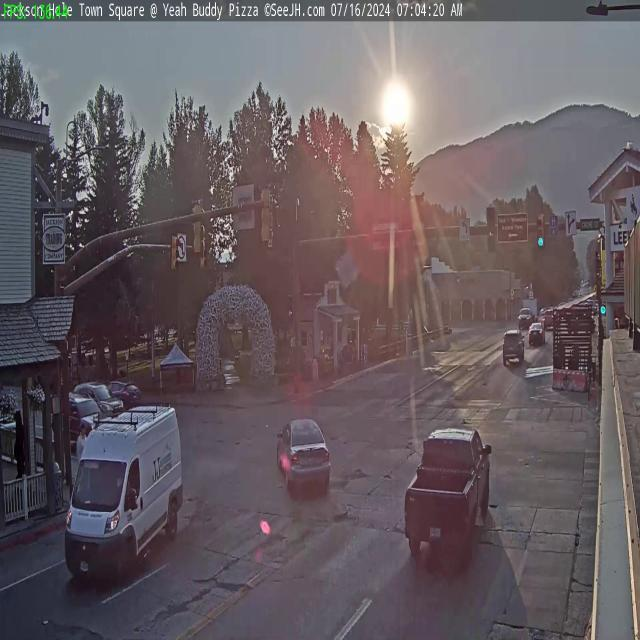motorcycle: (76, 422, 87, 464)
person: (518, 307, 532, 327)
pickup: (278, 414, 332, 501), (530, 322, 544, 346)
sedan: (59, 392, 104, 448), (76, 382, 120, 415), (110, 379, 141, 407), (502, 329, 525, 366)
suv: (259, 184, 274, 246), (194, 200, 204, 254), (486, 207, 496, 250), (537, 214, 546, 248), (172, 236, 180, 271), (201, 234, 207, 270)
truck: (65, 403, 184, 571)
